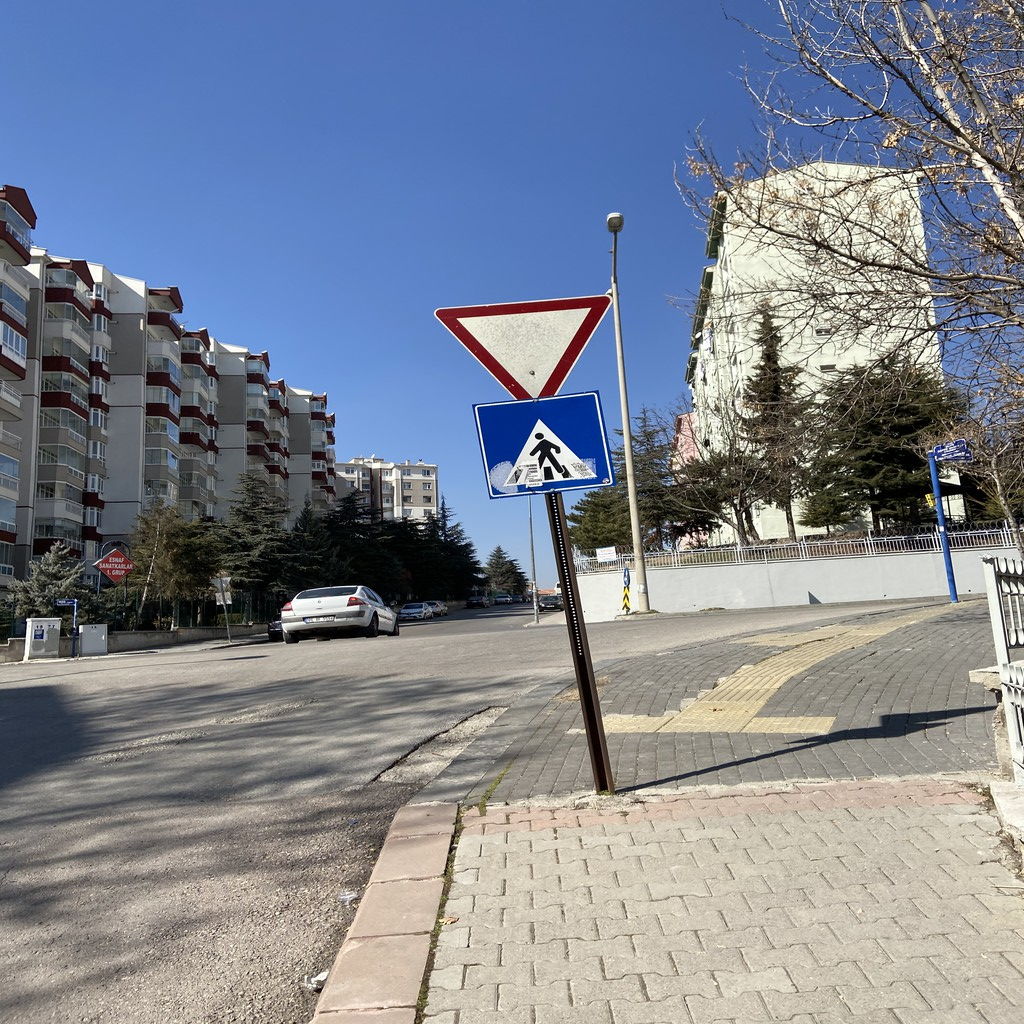Yaya Gecidi: (490, 400, 609, 488)
Yol Ver: (447, 286, 625, 399)
